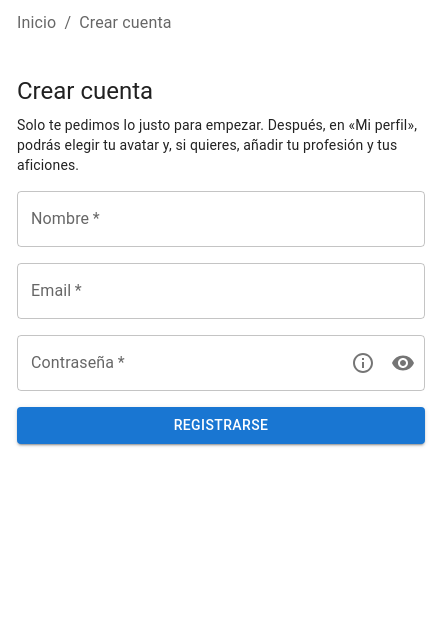
Test: RegisterForm (RF-01) › contraseña fuerte (SEC-01) › los requisitos están plegados: se ven al pulsar el botón de información y se vuelven a ocultar
Expected: the list "tu contraseña necesita" is not shown
Step 1. Click the button named "Requisitos de la contraseña" → (363, 364), box x1=343 y1=344 x2=383 y2=384
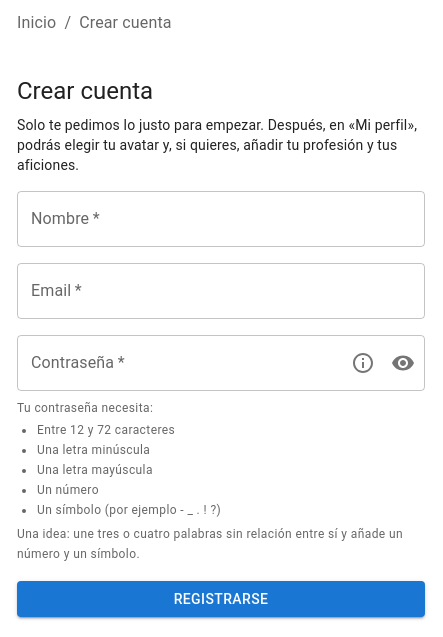
Result: the text "Entre 12 y 72 caracteres" is shown at x1=37 y1=421 x2=175 y2=441
Result: the text "Un símbolo (por ejemplo - _ . ! ?)" is shown at x1=37 y1=501 x2=221 y2=521
Step 2. Click the button named "Requisitos de la contraseña" → (363, 364), box x1=343 y1=344 x2=383 y2=384
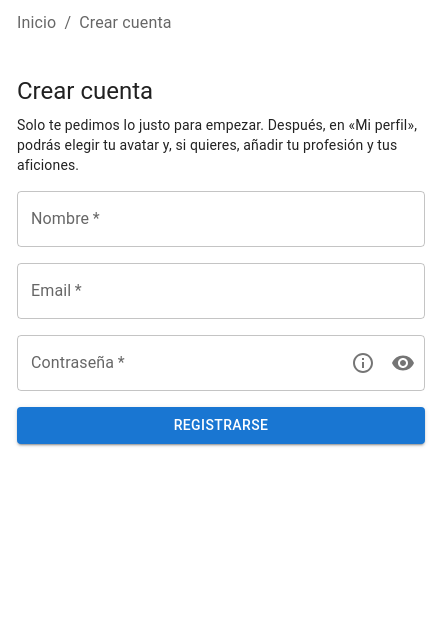
Result: the text "Tu contraseña necesita" is gone
